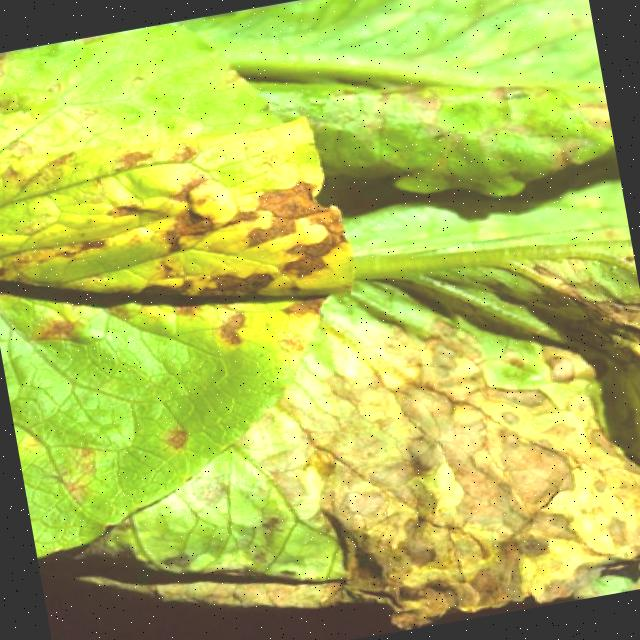Septoria_Blight_on_lettuce: (0, 58, 361, 419), (364, 289, 640, 620)
